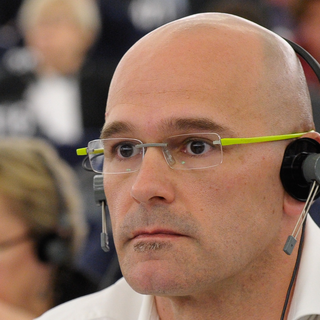eye: (171, 134, 221, 163), (102, 141, 144, 163)
